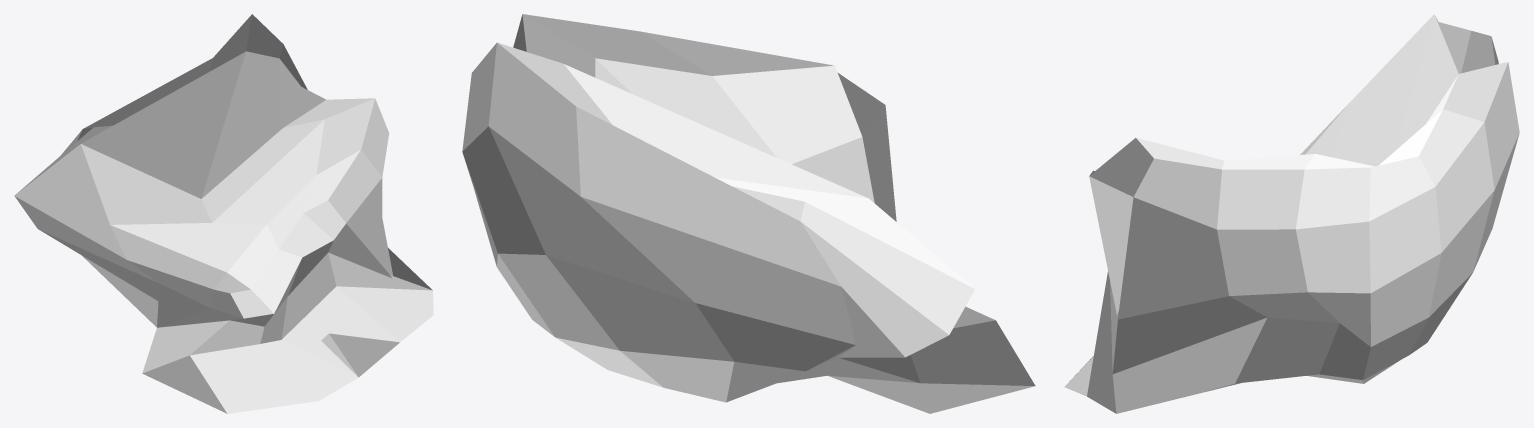
The model's file is animated_model.gltf.
3 views of the same model, side by side, from view 1: azimuth 30°, elevation 25°; view 2: azimuth 150°, elevation 25°; view 3: azimuth 270°, elevation 25° (orthographic). The views are drawn at different scales.
Parts seen in each view (by area): view 1: Cube; view 2: Cube; view 3: Cube.
Part boxes in pixels (x1,y1,x2,y2): Cube: (14,14,433,413); Cube: (462,14,1035,413); Cube: (1064,14,1519,413).
Size of the model in its own units: 12.35 by 9.78 by 10.13.
1 material, 1 textured.
